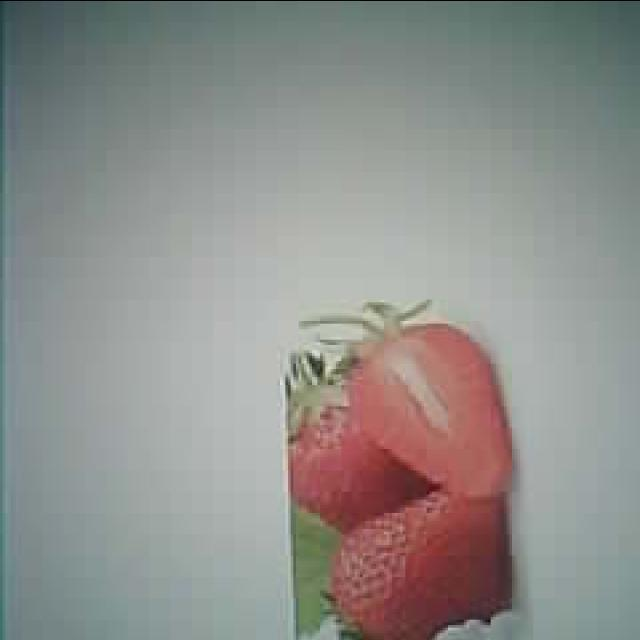ripe: (328, 490, 506, 640)
